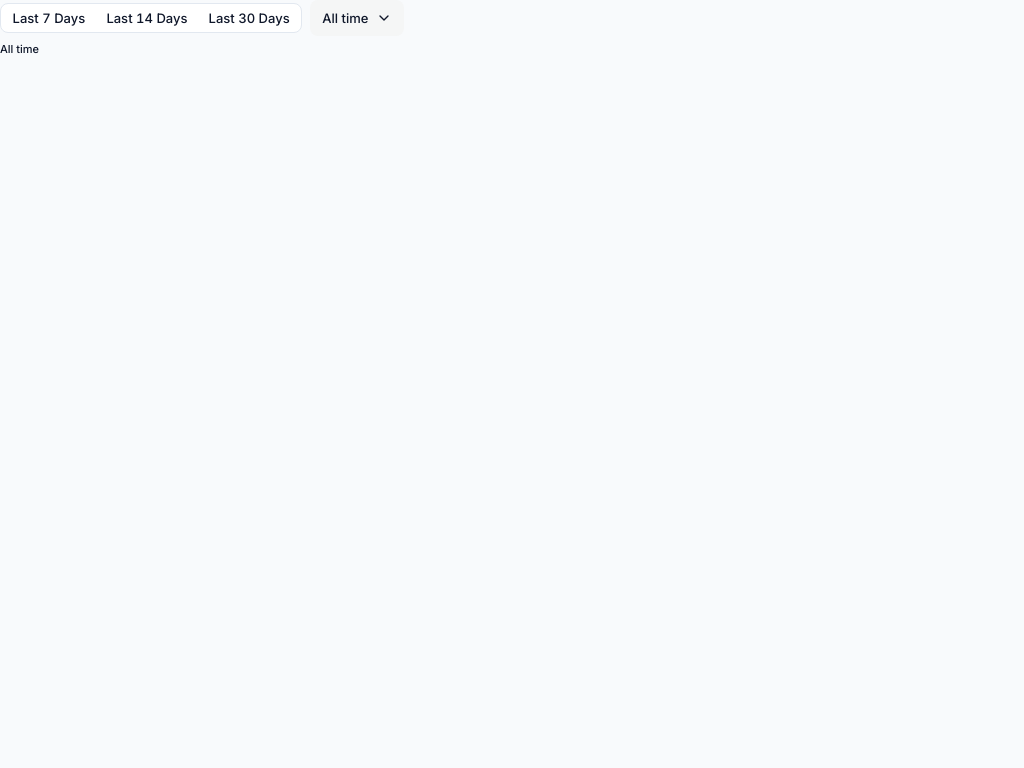
Test: RangeBar › "All time": no comparison links or form, a hint instead; the visible presets compare again
The image size is (1024, 768).
Expected: the message reads "All time", [0,42,39,56]
Click the button "All time".
click(357, 18)  # box [310,0,404,36]
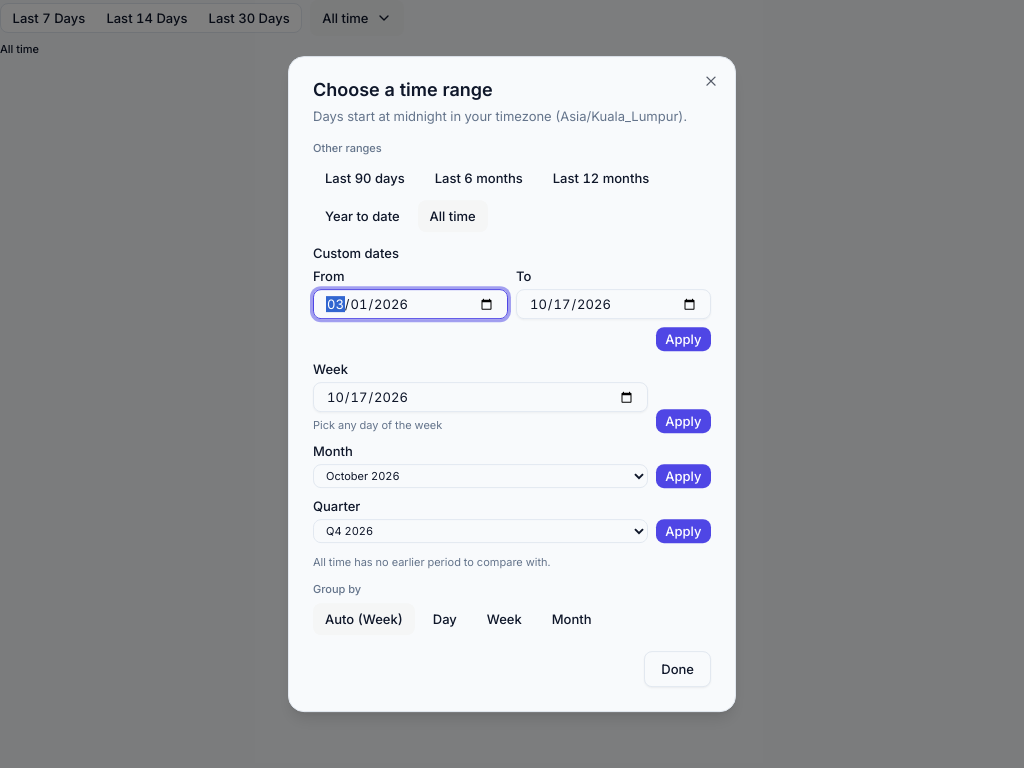
Now the dialog "Choose a time range" shows "All time has no earlier period to compare with.", box [313,555,550,569]
